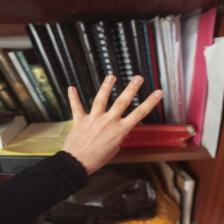four: (49, 68, 170, 186)
